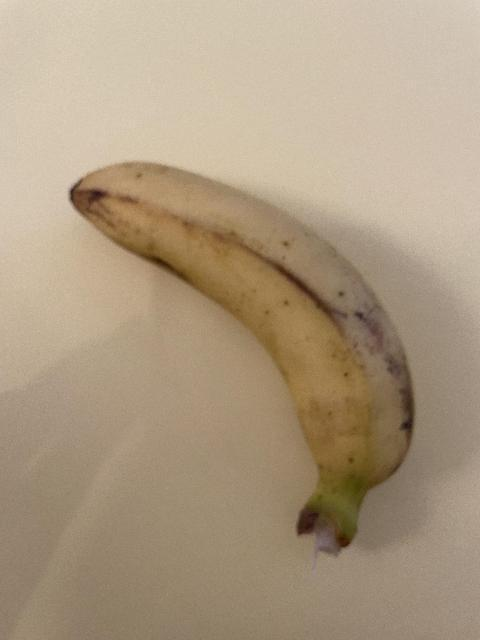banana: (68, 161, 414, 559)
